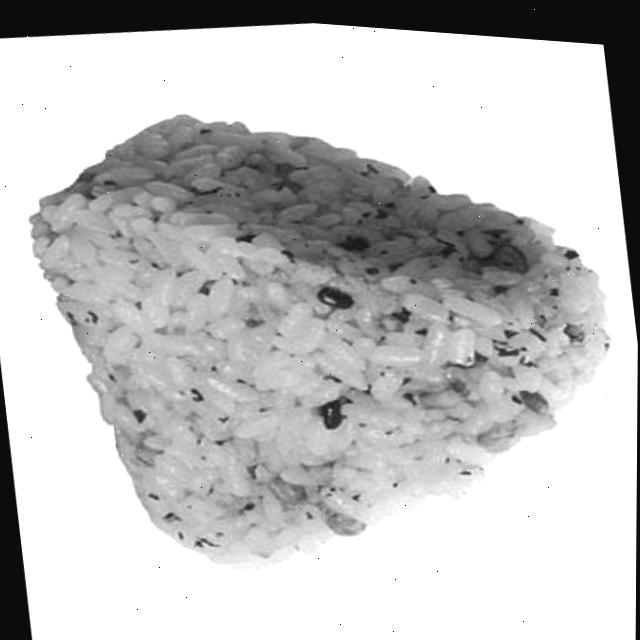米饭主食: (7, 39, 640, 622)
